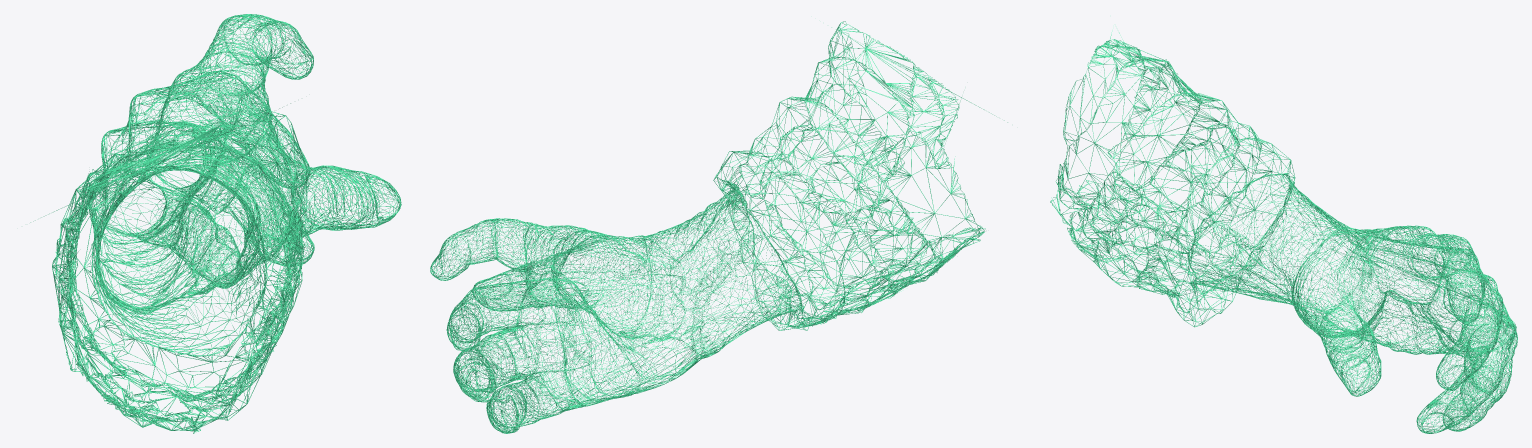
The model's file is hand.glb.
3 views of the same model, side by side, from view 1: azimuth 30°, elevation 25°; view 2: azimuth 150°, elevation 25°; view 3: azimuth 270°, elevation 25° (orthographic). The views are drawn at different scales.
Visible parts, largest first — view 1: tripo_part_7, tripo_part_52; view 2: tripo_part_7, tripo_part_52; view 3: tripo_part_7, tripo_part_52.
Part boxes in pixels (x1,y1,x2,y2): tripo_part_7: (88, 14, 401, 356); tripo_part_52: (30, 103, 308, 433); tripo_part_7: (430, 185, 802, 433); tripo_part_52: (713, 21, 1007, 330); tripo_part_7: (1188, 173, 1517, 433); tripo_part_52: (1050, 30, 1295, 327).
Size of the model in its own units: 0.963 by 0.6796 by 0.9532.
